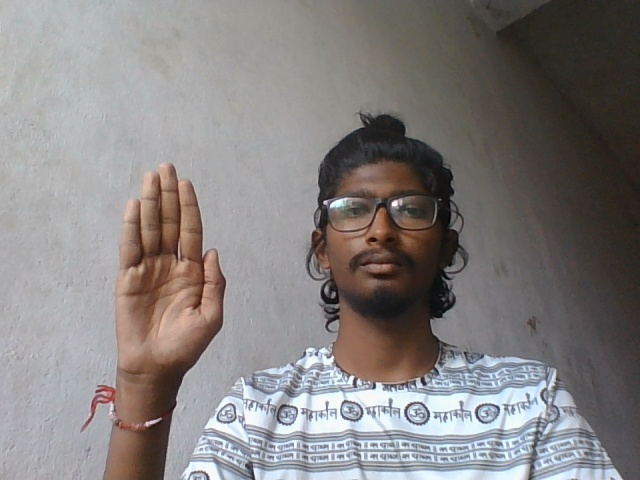Friend: (109, 157, 228, 378)
